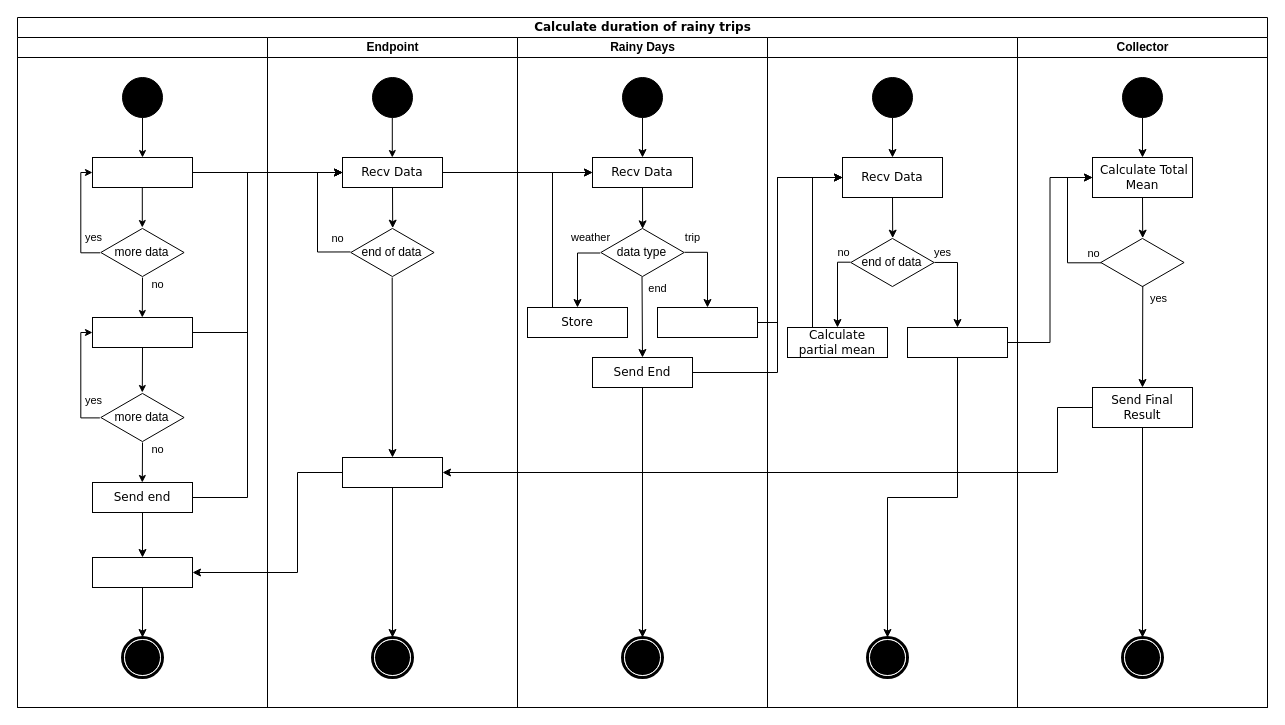
Image size: 1285x725. Some labels were removed from this diagram. Each missing label, with the box of its shape:
Calculate duration: (766, 36, 1018, 708)
Client: (16, 36, 268, 708)
everyone finish: (1100, 236, 1184, 288)
Filter Trip: (656, 306, 758, 338)
Recv Q1: (92, 556, 192, 588)
Send partial result: (906, 326, 1008, 358)
Send Q1 Result: (342, 456, 442, 488)
Send trips: (92, 316, 192, 348)
Send weather: (92, 156, 192, 188)
